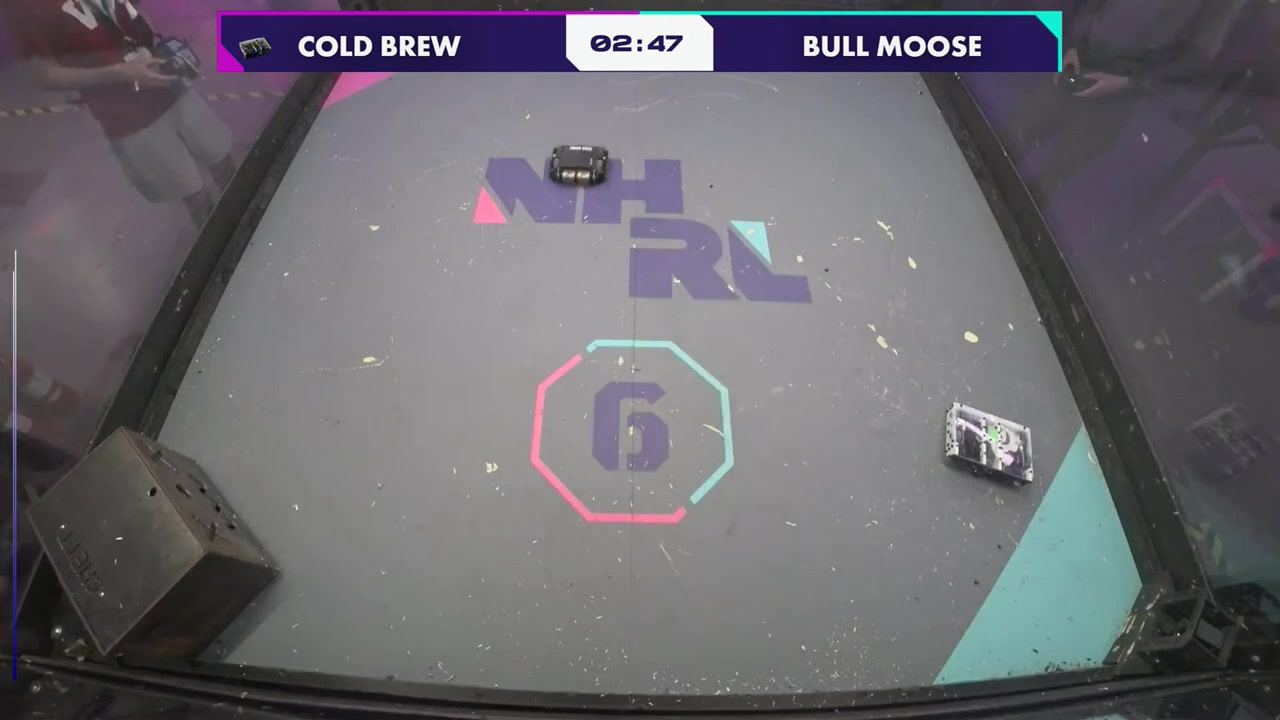combatbot: (941, 400, 1036, 492), (543, 145, 611, 187)
housebot: (27, 420, 284, 663)
